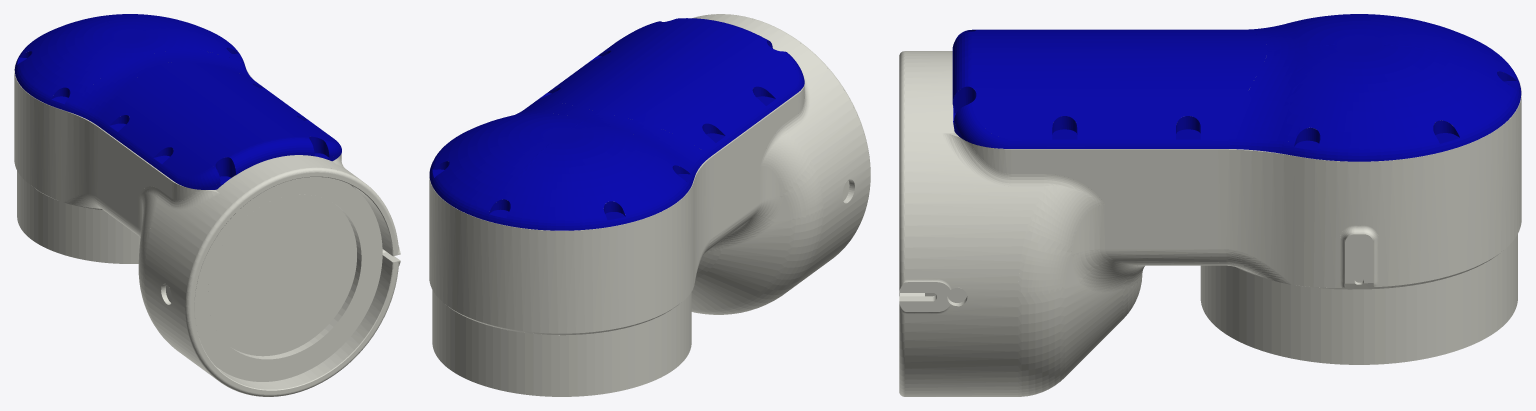
The picture shows the model from 3 angles, left to right: view 1: azimuth 30°, elevation 25°; view 2: azimuth 150°, elevation 25°; view 3: azimuth 270°, elevation 25°; orthographic projection. The views are drawn at different scales.
Visible parts, largest first — view 1: Base, Cover; view 2: Base, Cover; view 3: Base, Cover.
Boxes of the visible parts, x1,y1,x2,y2 form: Base: (14,59,400,396); Cover: (14,14,341,189); Base: (429,14,870,396); Cover: (429,18,804,230); Base: (899,51,1521,396); Cover: (952,14,1521,161).
Bounding box in the file's own units: 0.182 × 0.3276 × 0.195.
